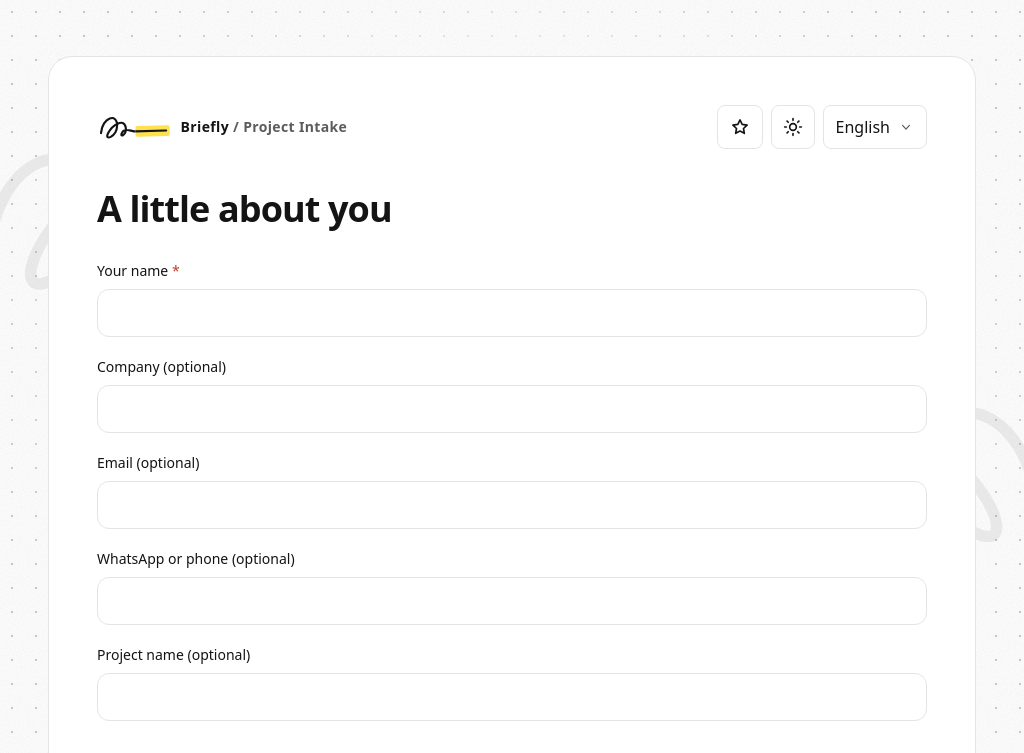
Scenario: Briefly flow › blocks an invalid email and focuses the first invalid field
Earlier steps of the test are not shown.
Type "not-an-email" into the field labelled "Email (optional)" at (512, 505), box top-left (97, 481), bottom-right (927, 529)
(page scrolled)
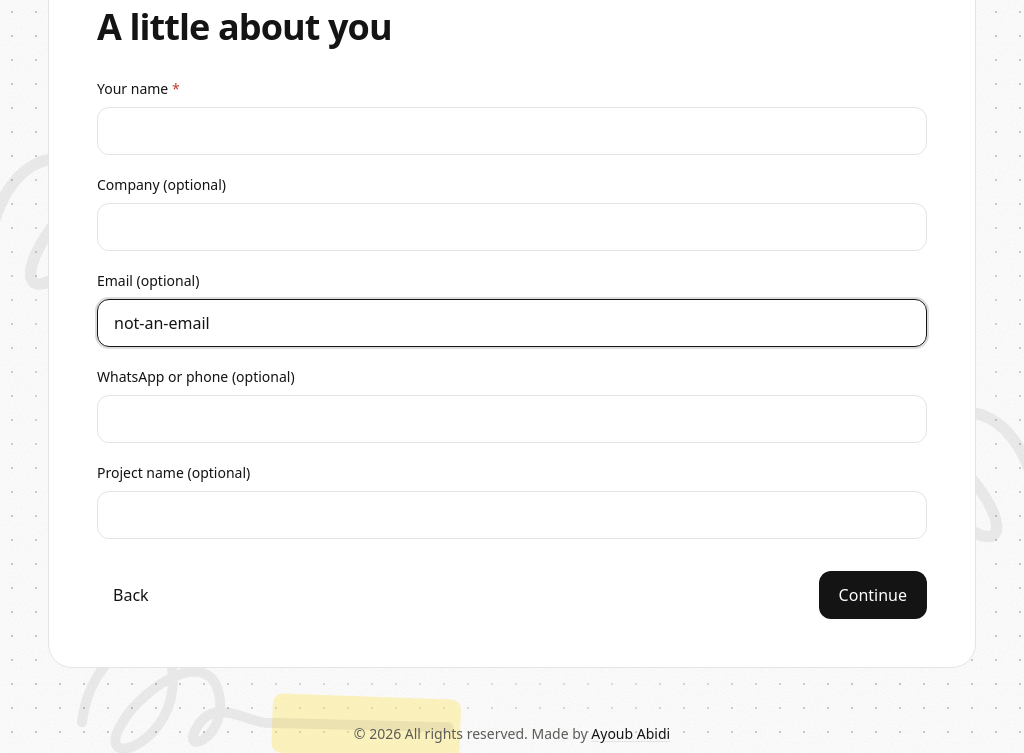
Click the button "Continue" at (873, 595), box top-left (819, 571), bottom-right (927, 619)
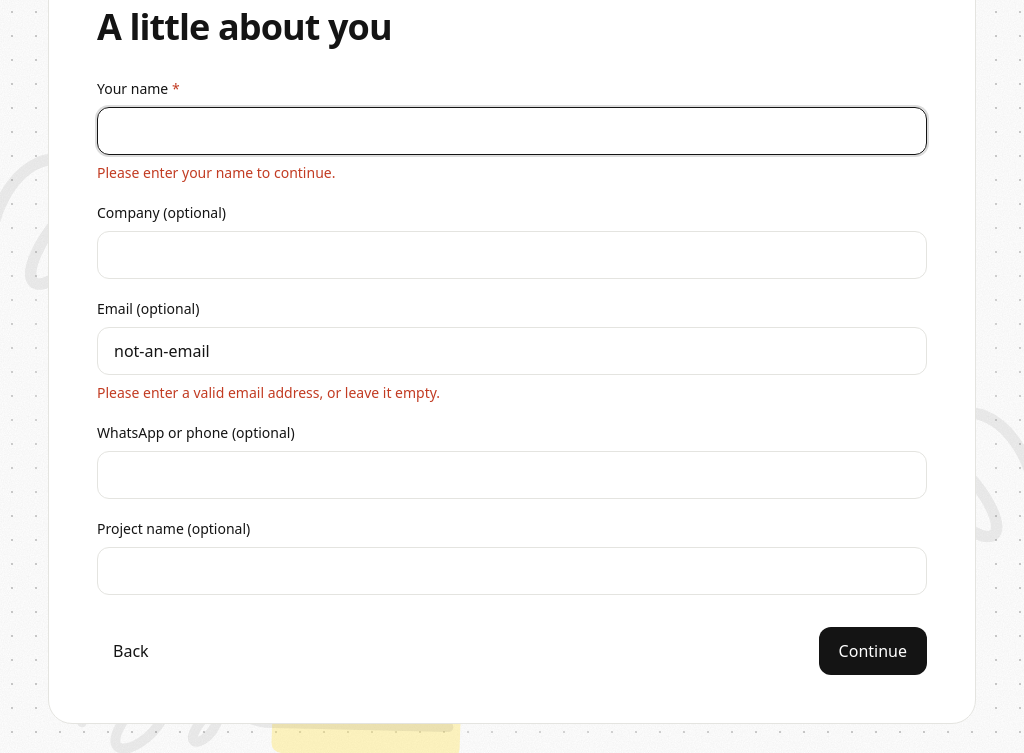
Result: the text "Please enter a valid email address, or leave it empty." is shown at top-left (97, 383), bottom-right (440, 402)
Type "Client One" into the field labelled "Your name *" at (512, 131), box top-left (97, 107), bottom-right (927, 155)
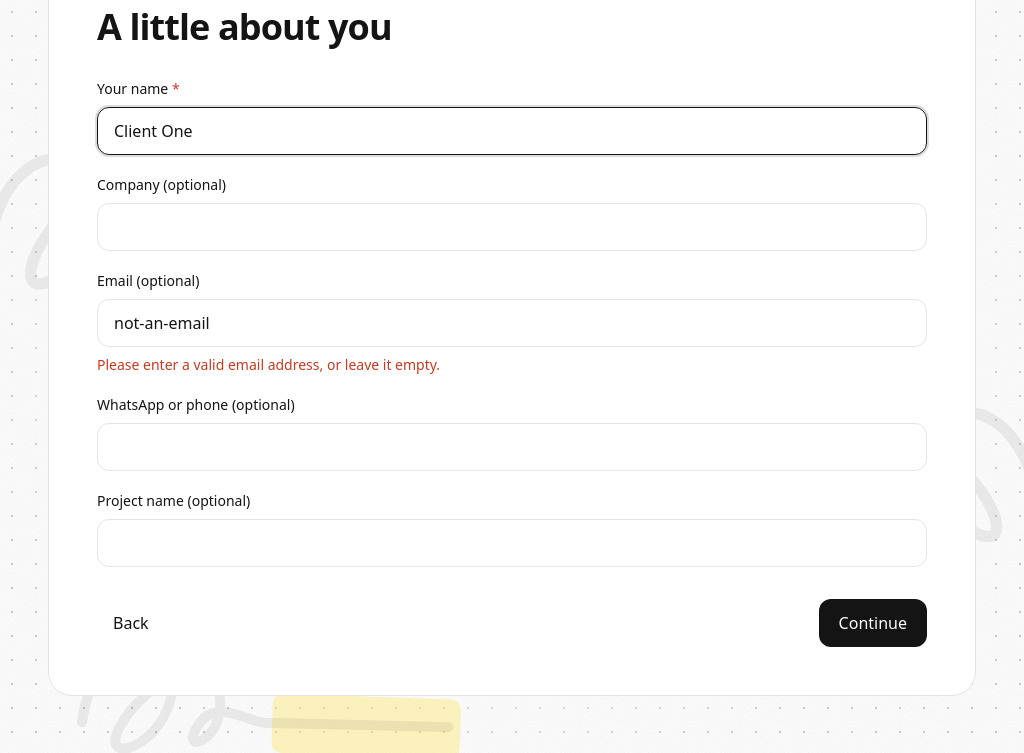
Click the button "Continue" at (873, 623), box top-left (819, 599), bottom-right (927, 647)
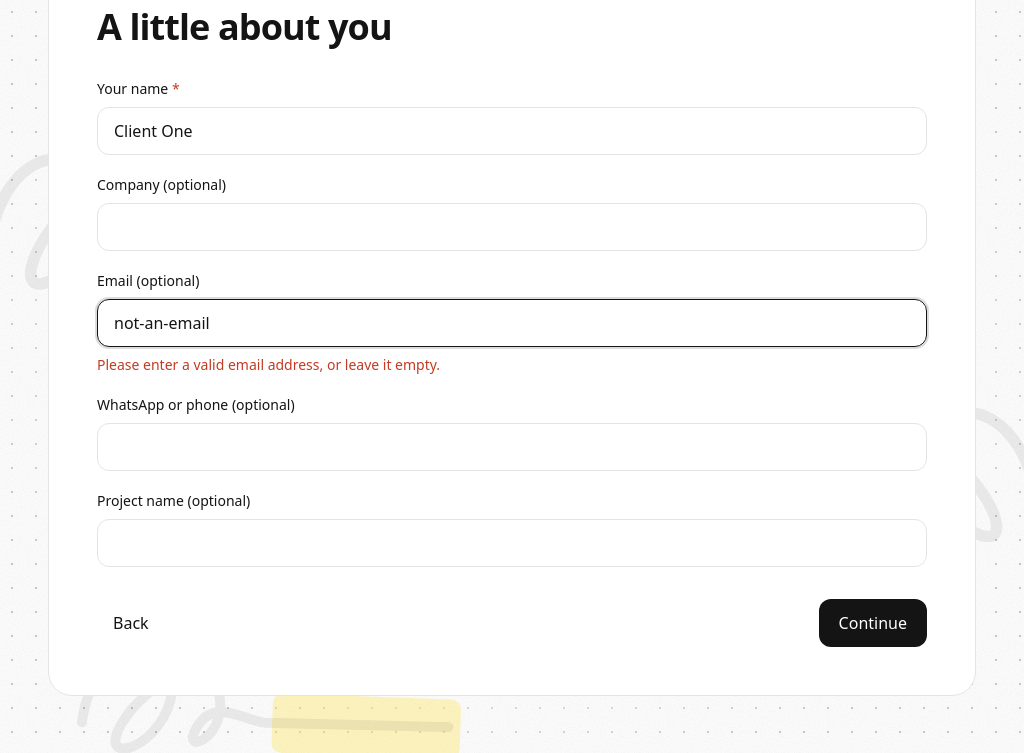
Result: the field labelled "Email (optional)" is marked as invalid
Replace the text in the field labelled "Email (optional)" with "client@example.com" at (512, 323), box top-left (97, 299), bottom-right (927, 347)
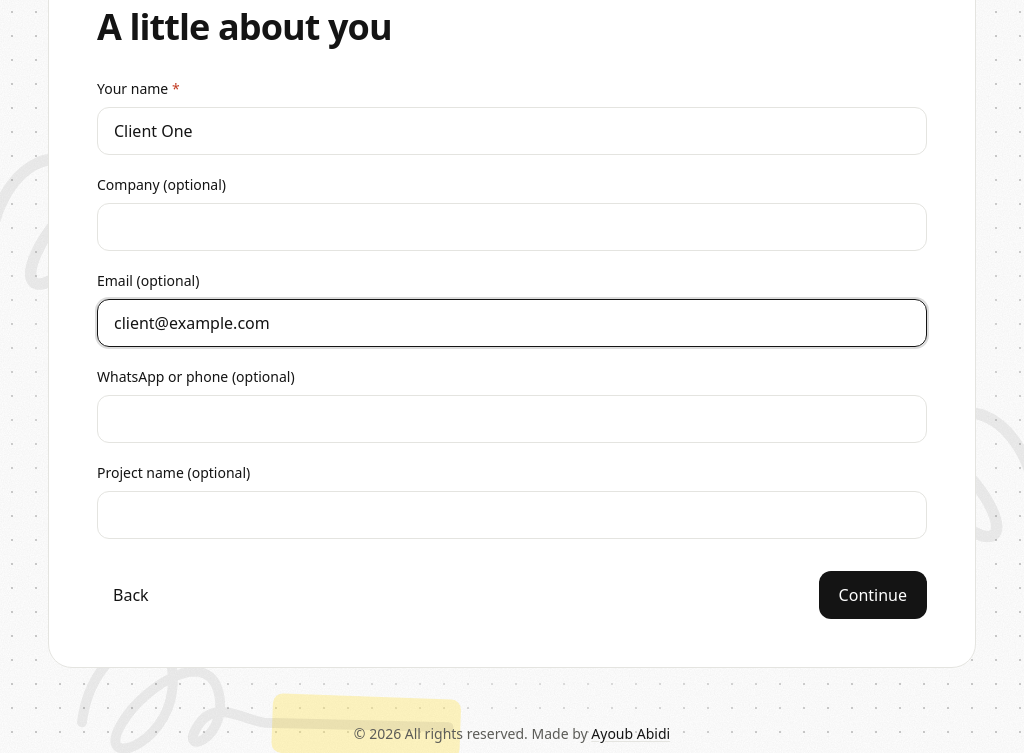
Click the button "Continue" at (873, 595), box top-left (819, 571), bottom-right (927, 619)
(page scrolled)
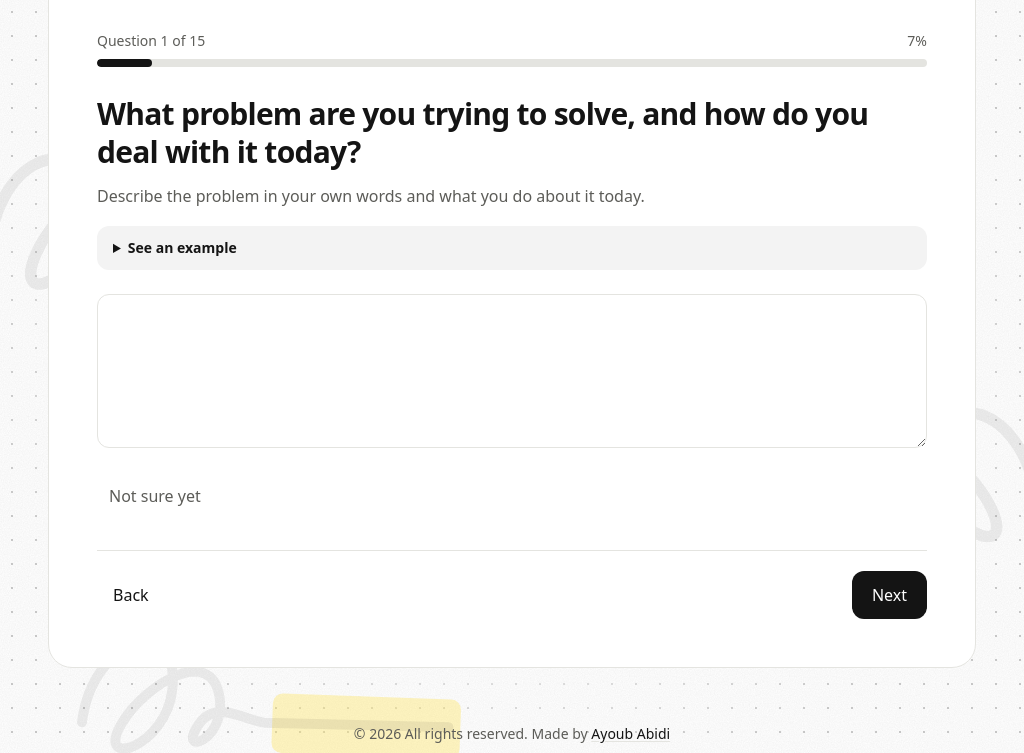
Result: the button "Not sure yet" is shown at top-left (97, 474), bottom-right (213, 518)
